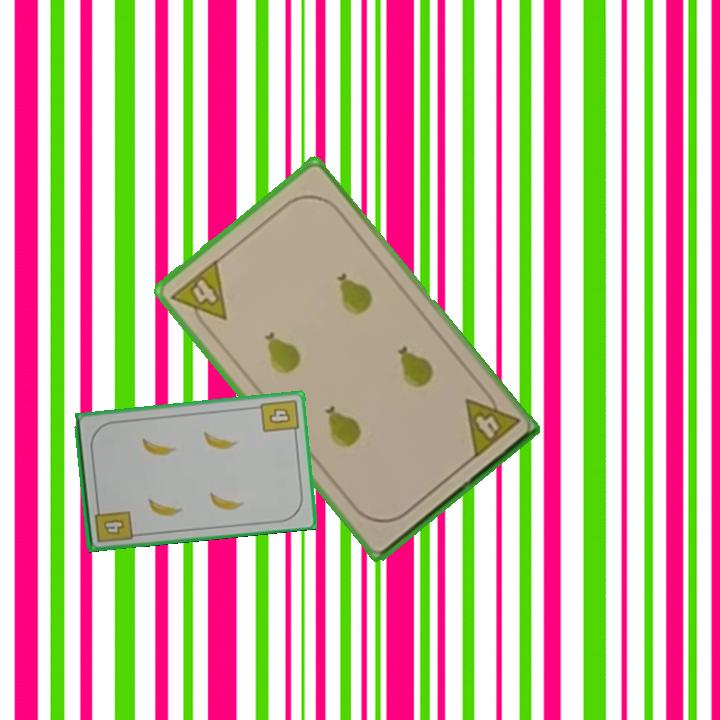4b: (257, 395, 301, 439), (91, 501, 135, 545)
4p: (167, 255, 230, 336), (460, 383, 523, 462)
